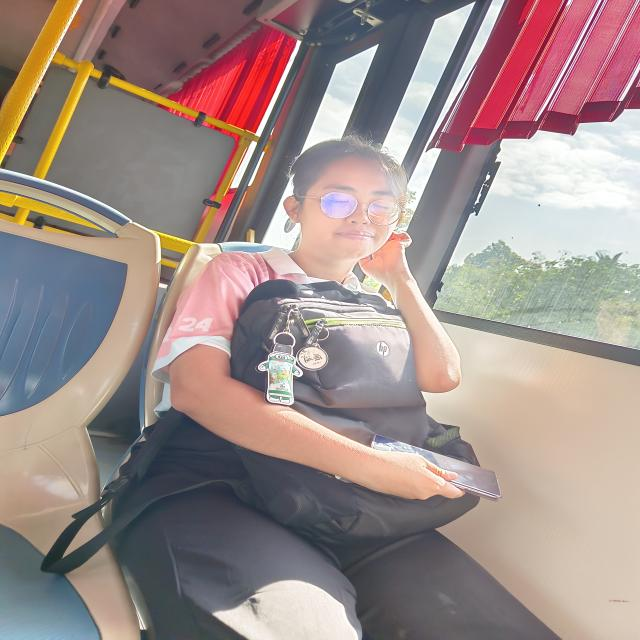person_without_labcoat: (114, 139, 557, 640)
